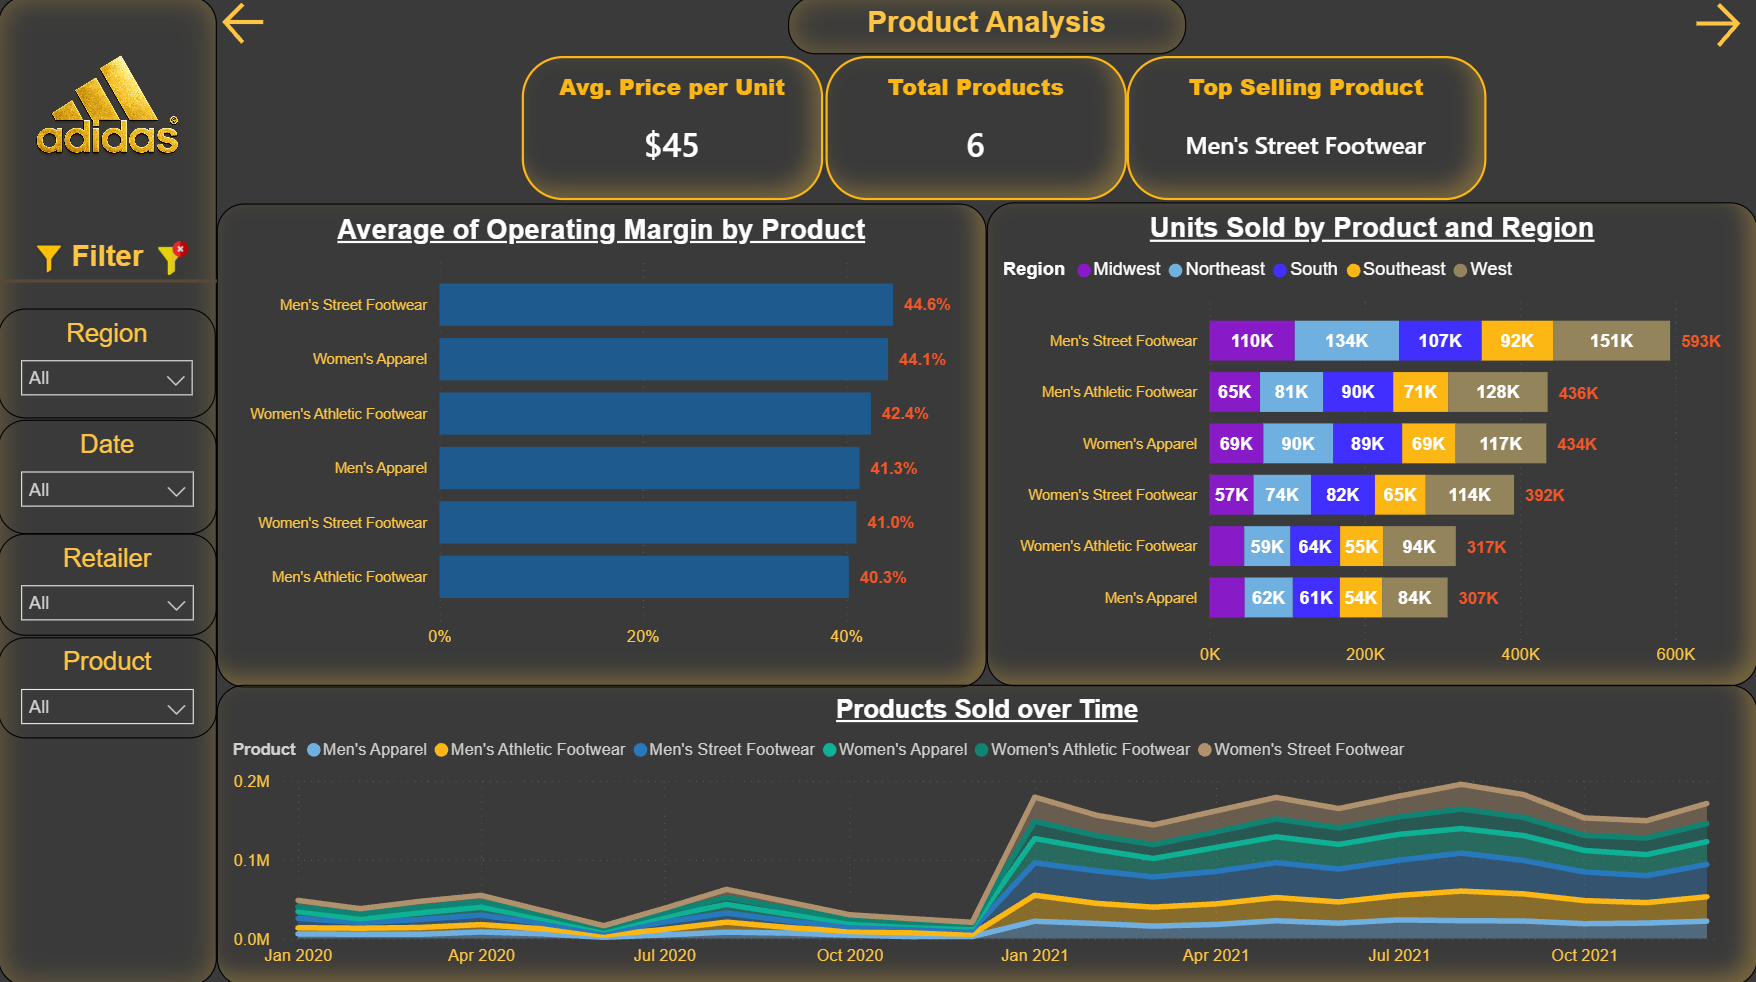

The dashboard page shown, as its layout file describes it:
{"tool":"powerbi","page":{"name":"Product Analysis","canvas":[1280,720],"ordinal":2},"visuals":[{"type":"shape","box":[0,0,159.3,720.2],"z":0},{"type":"slicer","title":"Product","fields":{"Values":["Adidas Sales.Product"]},"box":[0,465.7,159.3,73.6],"z":0,"group":"g1"},{"type":"clusteredBarChart","fields":{"Category":["Adidas Sales.Product"],"Y":["Avg(Adidas Sales.Operating Margin)"]},"box":[159.3,150.8,559.8,352.3],"z":1000},{"type":"barChart","title":"Units Sold by Product and Region","fields":{"Category":["Adidas Sales.Product"],"Series":["Adidas Sales.Region"],"Y":["Sum(Adidas Sales.Units Sold)"]},"box":[719,149.6,561,352.3],"z":2000},{"type":"slicer","title":"Retailer","fields":{"Values":["Adidas Sales.Retailer"]},"box":[0,390.9,159.3,74.8],"z":2000,"group":"g1"},{"type":"slicer","title":"Date","fields":{"Values":["Adidas Sales.Invoice Date.Variation.Date Hierarchy.Year","Adidas Sales.Invoice Date.Variation.Date Hierarchy.Month"]},"box":[0,307.7,159.3,83.2],"z":3000,"group":"g1"},{"type":"stackedAreaChart","title":"Products Sold over Time","fields":{"Category":["Adidas Sales.Invoice Date.Variation.Date Hierarchy.Year","Adidas Sales.Invoice Date.Variation.Date Hierarchy.Month"],"Series":["Adidas Sales.Product"],"Y":["Sum(Adidas Sales.Units Sold)"]},"box":[159.3,500.7,1120.8,219.6],"z":3000},{"type":"slicer","title":"Region","fields":{"Values":["Adidas Sales.Region","Adidas Sales.City"]},"box":[0,227.5,158.8,80],"z":4000},{"type":"cardVisual","title":"Avg. Price per Unit","fields":{"Data":["Avg(Adidas Sales.Price per Unit)"]},"box":[380.8,43.4,219.6,105],"z":5000},{"type":"image","box":[105.7,177.9,44.3,25],"z":5000,"group":"g1"},{"type":"cardVisual","title":"Total Products","fields":{"Data":["Count(Adidas Sales.Product)"]},"box":[601.5,43.4,219.6,105],"z":6000},{"type":"actionButton","box":[1229.4,0,50.7,42.2],"z":7000},{"type":"actionButton","box":[159.3,0,47.1,39.8],"z":8000},{"type":"image","box":[0,21.7,159.3,130.3],"z":9000},{"type":"shape","title":"Product Analysis","box":[574.3,0,289.5,42.2],"z":10000},{"type":"shape","title":"Filter","box":[0,177.5,159.3,42.2],"z":11000},{"type":"image","title":"hide filters","box":[9.2,178.3,55.8,26.7],"z":12000},{"type":"group","id":"g1","title":"filter panel","box":[0,177.9,159.3,361.4],"z":13000},{"type":"cardVisual","title":"Top Selling Product","fields":{"Data":["Min(Adidas Sales.Product)"]},"box":[820.9,43.7,261.8,105],"z":14000}]}

Visuals, with their boxes in screenshot pixels (x1, y1, x2, y2), scaled from the page's 1280x720 canvas onto the 1756x982 screenshot:
shape: bbox=(0, 0, 219, 981)
"Product" slicer: bbox=(0, 635, 219, 736)
clusteredBarChart - Adidas Sales.Product x Avg(Adidas Sales.Operating Margin): bbox=(219, 206, 987, 686)
"Units Sold by Product and Region" barChart: bbox=(986, 204, 1755, 685)
"Retailer" slicer: bbox=(0, 533, 219, 635)
"Date" slicer: bbox=(0, 420, 219, 533)
"Products Sold over Time" stackedAreaChart: bbox=(219, 683, 1755, 981)
"Region" slicer: bbox=(0, 310, 218, 419)
"Avg. Price per Unit" cardVisual: bbox=(522, 59, 824, 202)
image: bbox=(145, 243, 206, 277)
"Total Products" cardVisual: bbox=(825, 59, 1126, 202)
actionButton: bbox=(1687, 0, 1755, 58)
actionButton: bbox=(219, 0, 283, 54)
image: bbox=(0, 30, 219, 207)
"Product Analysis" shape: bbox=(788, 0, 1185, 58)
"Filter" shape: bbox=(0, 242, 219, 300)
"hide filters" image: bbox=(13, 243, 89, 280)
"filter panel" group: bbox=(0, 243, 219, 736)
"Top Selling Product" cardVisual: bbox=(1126, 60, 1485, 203)
